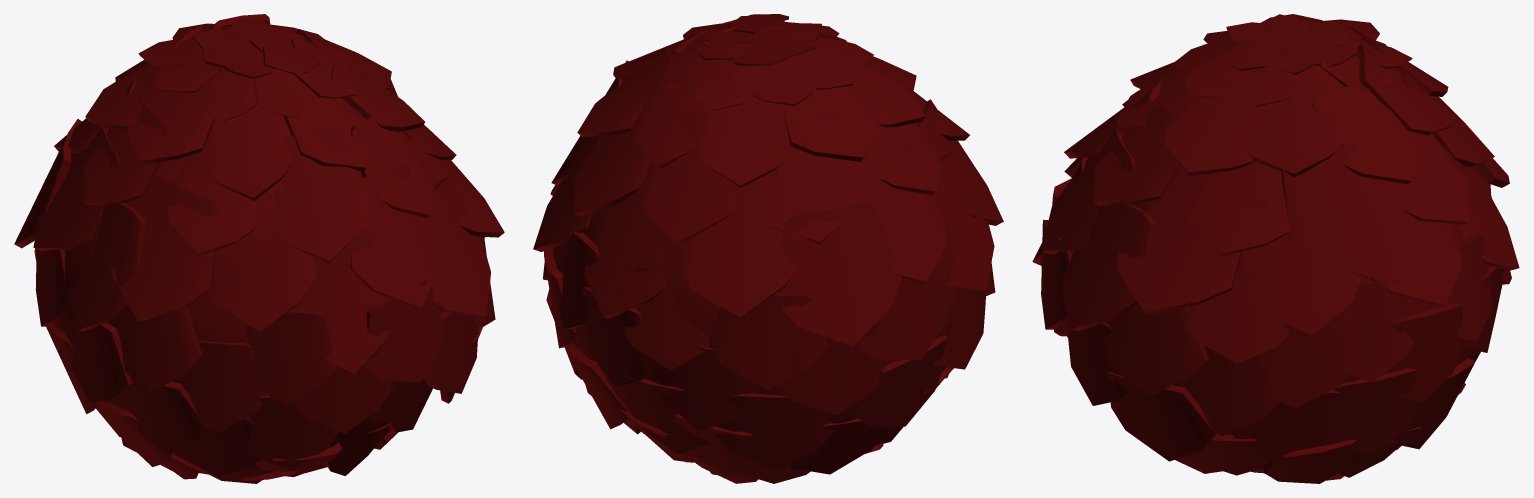
The model's file is dragon egg 2.fbx.
3 views of the same model, side by side, from view 1: azimuth 30°, elevation 25°; view 2: azimuth 150°, elevation 25°; view 3: azimuth 270°, elevation 25° (orthographic).
Parts seen in each view (by area): view 1: group18; view 2: group18; view 3: group18.
Boxes of the visible parts, x1,y1,x2,y2 form: group18: [14, 14, 504, 483]; group18: [533, 14, 1003, 483]; group18: [1032, 14, 1519, 483].
Bounding box in the file's own units: 7.82 × 7.96 × 8.14.
